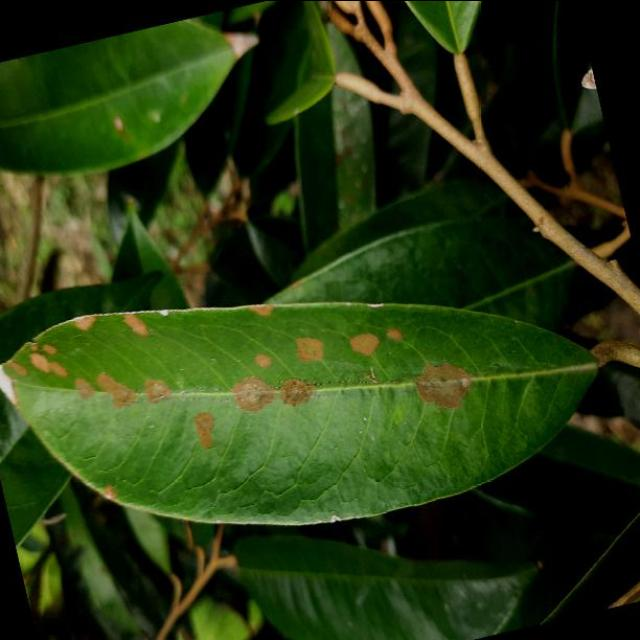Algal Leaf Spot: (0, 199, 618, 599)
